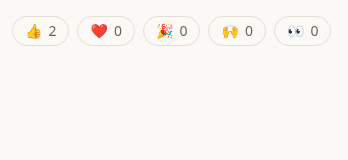
Test: ReactionBar › 未押下の絵文字クリックで即座に +1 され POST が呼ばれる
The width and height of the screenshot is (348, 160).
Click the button "👍 2": point(41, 31) [12,16,70,46]
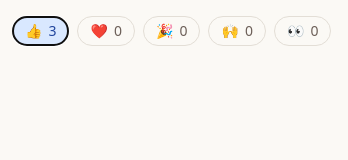
Expected: the button "👍 3" is shown, [12,16,70,46]
